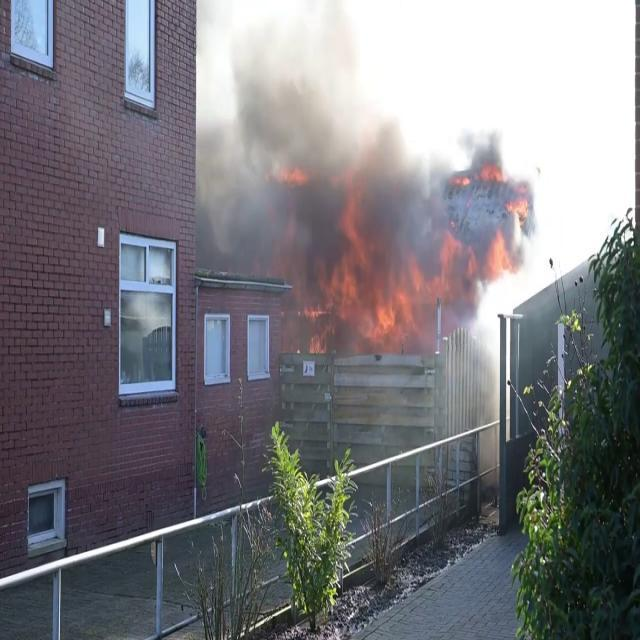Fire: (302, 214, 422, 358)
Smoke: (196, 0, 534, 299)
